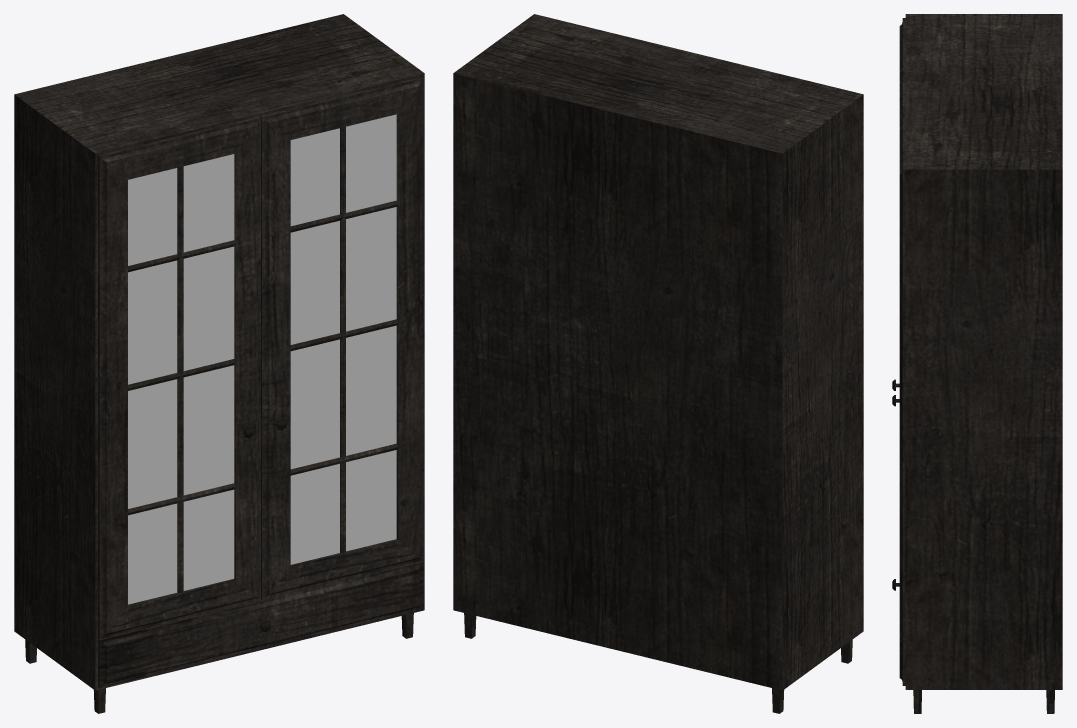
Rendered from wardrobe_mp_2.obj.
3 views of the same model, side by side, from view 1: azimuth 30°, elevation 25°; view 2: azimuth 150°, elevation 25°; view 3: azimuth 270°, elevation 25° (orthographic). The views are drawn at different scales.
Parts seen in each view (by area): view 1: wardrobe_mp_2_door_1, wardrobe_mp_2_door_2, wardrobe_mp_2, wardrobe_mp_2_drawer; view 2: wardrobe_mp_2; view 3: wardrobe_mp_2, wardrobe_mp_2_door_2, wardrobe_mp_2_door_1, wardrobe_mp_2_drawer.
Part boxes in pixels (left/top/right/bottom): wardrobe_mp_2_door_1: left=98, top=116, right=260, bottom=639; wardrobe_mp_2_door_2: left=260, top=77, right=423, bottom=599; wardrobe_mp_2: left=14, top=14, right=424, bottom=713; wardrobe_mp_2_drawer: left=98, top=561, right=423, bottom=688; wardrobe_mp_2: left=453, top=14, right=863, bottom=713; wardrobe_mp_2: left=905, top=14, right=1062, bottom=713; wardrobe_mp_2_door_2: left=892, top=95, right=905, bottom=638; wardrobe_mp_2_door_1: left=892, top=18, right=905, bottom=390; wardrobe_mp_2_drawer: left=892, top=579, right=905, bottom=685.
Bounding box in the file's own units: 1.22 × 2 × 0.5645.
